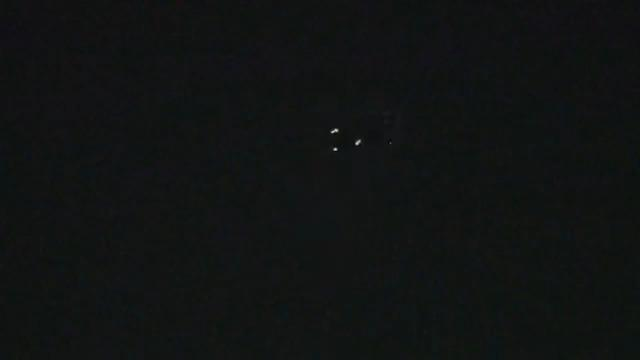Plane: (307, 123, 372, 158)
